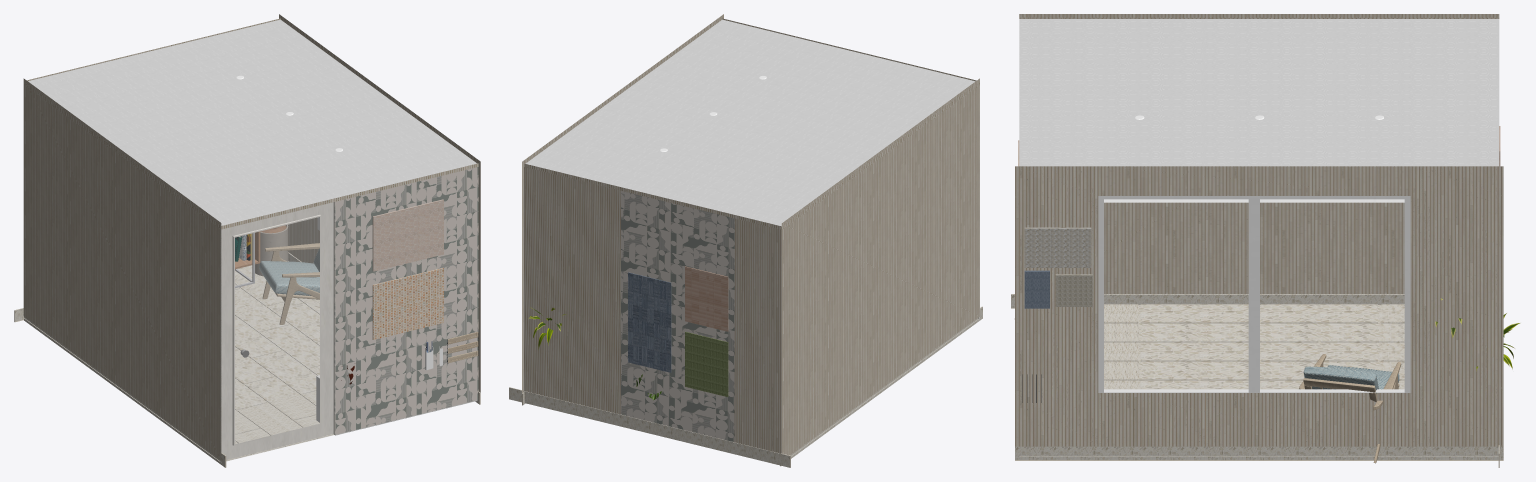
File: msw_env.glb
3 views of the same model, side by side, from view 1: azimuth 30°, elevation 25°; view 2: azimuth 150°, elevation 25°; view 3: azimuth 270°, elevation 25° (orthographic). The views are drawn at different scales.
Parts seen in each view (by area): view 1: wall_back, ceiling, wall_left_accent, door_pane, floor, door_frame, 2_frame, 1_frame, Cube.011, wall_left_main, plant_dracaena, Object_8.003; view 2: wall_back, ceiling, wall_left_main, wall_left_accent, floor, wall_art_8, 4_frame, 5_frame; view 3: wall_left_main, ceiling, floor, wall_back, window_border, wall_art_7, Cube.011, wall_art_6, wall_art_8.
Boxes of the visible parts, x1=… form: wall_back: x1=23, y1=18, x2=478, y2=460; ceiling: x1=28, y1=19, x2=476, y2=225; wall_left_accent: x1=334, y1=167, x2=478, y2=434; door_pane: x1=235, y1=217, x2=319, y2=443; floor: x1=14, y1=252, x2=480, y2=467; door_frame: x1=220, y1=202, x2=334, y2=462; 2_frame: x1=372, y1=199, x2=443, y2=271; 1_frame: x1=372, y1=268, x2=443, y2=339; Cube.011: x1=259, y1=243, x2=319, y2=324; wall_left_main: x1=279, y1=14, x2=480, y2=392; plant_dracaena: x1=255, y1=224, x2=288, y2=276; Object_8.003: x1=447, y1=332, x2=478, y2=363; wall_back: x1=524, y1=18, x2=979, y2=455; ceiling: x1=525, y1=19, x2=975, y2=226; wall_left_main: x1=522, y1=14, x2=781, y2=453; wall_left_accent: x1=621, y1=191, x2=734, y2=442; floor: x1=509, y1=306, x2=982, y2=467; wall_art_8: x1=628, y1=272, x2=671, y2=372; 4_frame: x1=685, y1=266, x2=728, y2=331; 5_frame: x1=685, y1=331, x2=728, y2=396; wall_left_main: x1=1015, y1=166, x2=1503, y2=446; ceiling: x1=1019, y1=19, x2=1499, y2=166; floor: x1=1011, y1=294, x2=1503, y2=467; wall_back: x1=1019, y1=14, x2=1499, y2=293; window_border: x1=1098, y1=196, x2=1410, y2=392; wall_art_7: x1=1024, y1=227, x2=1091, y2=267; Cube.011: x1=1299, y1=354, x2=1401, y2=463; wall_art_6: x1=1055, y1=274, x2=1092, y2=306; wall_art_8: x1=1024, y1=270, x2=1049, y2=308.
Size of the model in its own units: 3.28 by 2.73 by 4.26.
Materials: 96 (77 with a texture image).
